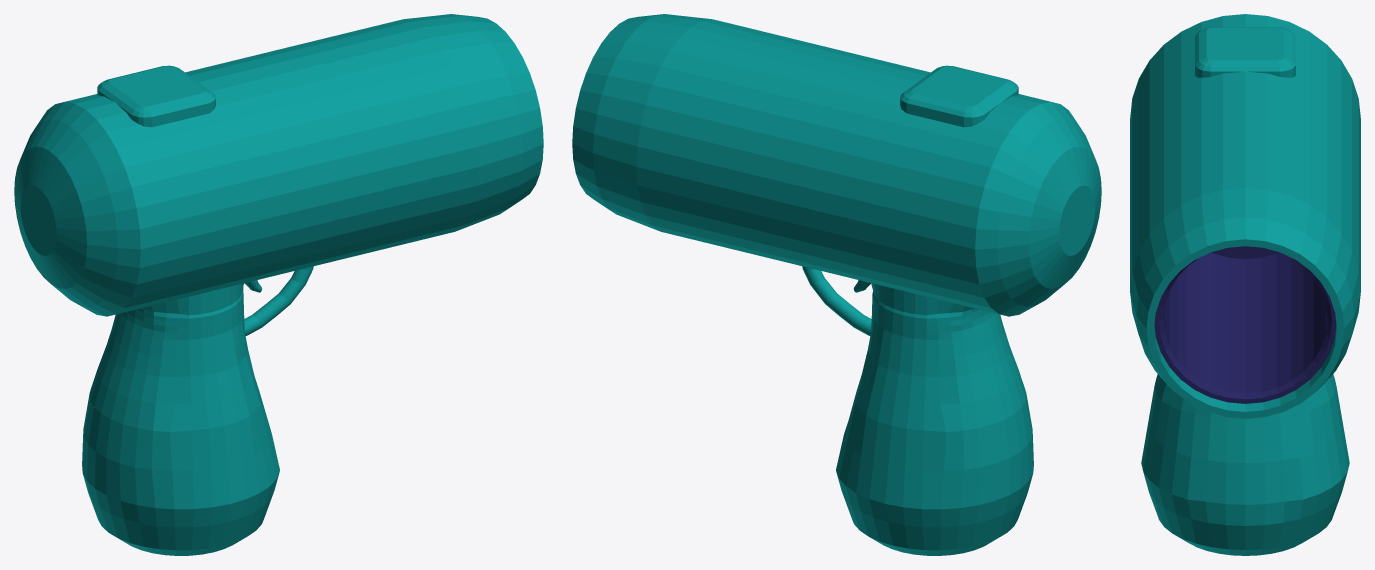
The model's file is gun.fbx.
The picture shows the model from 3 angles, left to right: view 1: azimuth 30°, elevation 25°; view 2: azimuth 150°, elevation 25°; view 3: azimuth 270°, elevation 25°; orthographic projection. The views are drawn at different scales.
Visible parts, largest first — view 1: Cylinder; view 2: Cylinder; view 3: Cylinder.
Boxes of the visible parts, x1,y1,x2,y2 form: Cylinder: [14, 14, 543, 555]; Cylinder: [572, 14, 1101, 555]; Cylinder: [1130, 14, 1360, 555].
Bounding box in the file's own units: 481 × 450 × 200.
